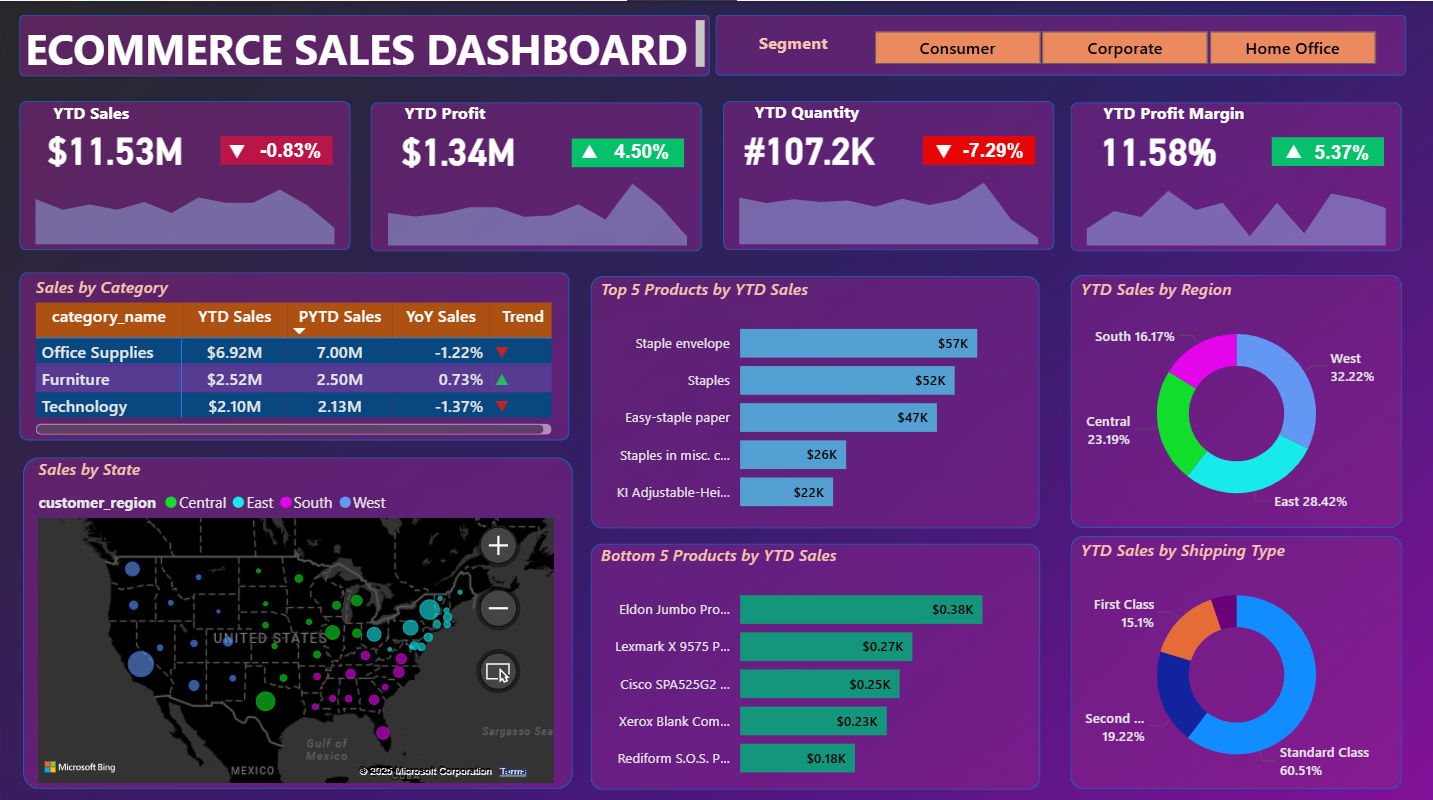

This screenshot's page, from the dashboard's own definition file:
{"tool":"powerbi","page":{"name":"Page 1","canvas":[1280,720],"ordinal":0},"visuals":[{"type":"shape","box":[19.2,12.3,615,55],"z":0},{"type":"shape","box":[197.9,120.6,100.1,25.3],"z":1000},{"type":"textbox","box":[19.3,12.1,615.3,55.5],"z":2000},{"type":"shape","box":[19.2,89.2,295,133.1],"z":3000},{"type":"card","fields":{"Values":["ecommerce_data.YTD Sales"]},"box":[10.9,102.5,187,57.9],"z":4000},{"type":"areaChart","fields":{"Category":["Calendar.Month"],"Y":["Sum(ecommerce_data.sales_per_order)"]},"box":[19.3,146,295.6,76],"z":5000},{"type":"shape","box":[332.3,90.5,295,133.1],"z":6000},{"type":"card","fields":{"Values":["ecommerce_data.YoY Sales"]},"box":[225.6,120.6,70,27.7],"z":7000},{"type":"card","fields":{"Values":["ecommerce_data.Sales Icon"]},"box":[197.9,121.9,30.2,27.7],"z":8000},{"type":"textbox","box":[44.6,84.5,90.5,35],"z":9000},{"type":"shape","box":[510.9,122,100.1,25.3],"z":10000},{"type":"card","fields":{"Values":["ecommerce_data.YTD Profit"]},"box":[331.8,103.8,156.8,57.9],"z":11000},{"type":"areaChart","fields":{"Category":["Calendar.Month"],"Y":["Sum(ecommerce_data.profit_per_order)"]},"box":[332.4,147.3,295.6,76],"z":12000},{"type":"card","fields":{"Values":["ecommerce_data.YoY Profit"]},"box":[539.3,121.9,70,27.7],"z":13000},{"type":"card","fields":{"Values":["ecommerce_data.Profit Icon"]},"box":[511.5,121.9,30.2,27.7],"z":14000},{"type":"textbox","box":[357.1,84.5,90.5,36.2],"z":15000},{"type":"shape","box":[645.3,88.9,295,133.1],"z":16000},{"type":"shape","box":[824,120.4,100.1,25.3],"z":17000},{"type":"card","fields":{"Values":["ecommerce_data.YTD Concatenated Qty"]},"box":[644.8,102.2,156.8,57.9],"z":18000},{"type":"areaChart","fields":{"Category":["Calendar.Month"],"Y":["Sum(ecommerce_data.order_quantity)"]},"box":[645.4,145.7,295.6,76],"z":19000},{"type":"card","fields":{"Values":["ecommerce_data.YoY Quantity"]},"box":[851.7,120.6,70,27.7],"z":20000},{"type":"card","fields":{"Values":["ecommerce_data.Quantity Icon"]},"box":[822.8,120.6,39.8,25.3],"z":21000},{"type":"textbox","box":[669.6,83.2,123.1,36.2],"z":22000},{"type":"shape","box":[955.5,90.2,295,133.1],"z":23000},{"type":"shape","box":[1134.1,121.7,100.1,25.3],"z":24000},{"type":"card","fields":{"Values":["ecommerce_data.YTD Profit Margin"]},"box":[955,103.5,156.8,57.9],"z":25000},{"type":"areaChart","fields":{"Category":["Calendar.Month"],"Y":["ecommerce_data.Profit Margin"]},"box":[955.6,147,295.6,76],"z":26000},{"type":"card","fields":{"Values":["ecommerce_data.YoY Profit Margin"]},"box":[1161.9,122,70,27.7],"z":27000},{"type":"card","fields":{"Values":["ecommerce_data.Profit Margin Icon"]},"box":[1134.1,120.6,39.8,25.3],"z":28000},{"type":"textbox","box":[979.6,84.5,154.4,36.2],"z":29000},{"type":"shape","box":[19.3,241.3,490,150],"z":30000},{"type":"pivotTable","title":"Sales by Category","fields":{"Rows":["ecommerce_data.category_name"],"Values":["ecommerce_data.YTD Sales","ecommerce_data.PYTD Sales","ecommerce_data.YoY Sales","ecommerce_data.Sales Icon"]},"box":[29,243.7,469.3,147.2],"z":31000},{"type":"shape","box":[21.7,406.6,489.8,295.6],"z":32000},{"type":"map","title":"Sales by State","fields":{"Y":["us_state_long_lat_codes.latitude"],"X":["us_state_long_lat_codes.longitude"],"Size":["ecommerce_data.YTD Sales"],"Series":["ecommerce_data.customer_region"]},"box":[31.4,406.6,469.3,295.6],"z":33000},{"type":"shape","box":[527.2,244.9,400,225],"z":34000},{"type":"shape","box":[527.2,482.6,400.5,219.6],"z":35000},{"type":"barChart","title":"Top 5 Products by YTD Sales","fields":{"Category":["ecommerce_data.product_name"],"Y":["ecommerce_data.YTD Sales"]},"box":[532,246.1,389.7,223.2],"z":36000},{"type":"barChart","title":"Bottom 5 Products by YTD Sales","fields":{"Category":["ecommerce_data.product_name"],"Y":["ecommerce_data.YTD Sales"]},"box":[532,482.6,389.7,223.2],"z":37000},{"type":"shape","box":[955.5,243.7,295.6,225.6],"z":38000},{"type":"shape","box":[955.5,476.5,295.6,225.6],"z":39000},{"type":"donutChart","title":"YTD Sales by Region","fields":{"Category":["ecommerce_data.customer_region"],"Y":["ecommerce_data.YTD Sales"]},"box":[959.1,246.1,287.1,223.2],"z":40000},{"type":"donutChart","title":"YTD Sales by Shipping Type","fields":{"Y":["ecommerce_data.YTD Sales"],"Category":["ecommerce_data.shipping_type"]},"box":[959.1,479,287.1,223.2],"z":41000},{"type":"shape","box":[639.4,12.1,615.3,54.3],"z":42000},{"type":"slicer","fields":{"Values":["ecommerce_data.customer_segment"]},"box":[755.2,20.5,495.8,37.4],"z":43000},{"type":"textbox","box":[656.3,21.7,98.9,45.8],"z":44000}]}

Visuals, with their boxes in screenshot pixels (x1, y1, x2, y2), scaled from the page's 1280x720 canvas onto the 1433x800 screenshot:
shape: [left=21, top=14, right=710, bottom=75]
shape: [left=222, top=134, right=334, bottom=162]
textbox: [left=22, top=13, right=710, bottom=75]
shape: [left=21, top=99, right=352, bottom=247]
card - ecommerce_data.YTD Sales: [left=12, top=114, right=222, bottom=178]
areaChart - Calendar.Month x Sum(ecommerce_data.sales_per_order): [left=22, top=162, right=353, bottom=247]
shape: [left=372, top=101, right=702, bottom=248]
card - ecommerce_data.YoY Sales: [left=253, top=134, right=331, bottom=165]
card - ecommerce_data.Sales Icon: [left=222, top=135, right=255, bottom=166]
textbox: [left=50, top=94, right=151, bottom=133]
shape: [left=572, top=136, right=684, bottom=164]
card - ecommerce_data.YTD Profit: [left=371, top=115, right=547, bottom=180]
areaChart - Calendar.Month x Sum(ecommerce_data.profit_per_order): [left=372, top=164, right=703, bottom=248]
card - ecommerce_data.YoY Profit: [left=604, top=135, right=682, bottom=166]
card - ecommerce_data.Profit Icon: [left=573, top=135, right=606, bottom=166]
textbox: [left=400, top=94, right=501, bottom=134]
shape: [left=722, top=99, right=1053, bottom=247]
shape: [left=922, top=134, right=1035, bottom=162]
card - ecommerce_data.YTD Concatenated Qty: [left=722, top=114, right=897, bottom=178]
areaChart - Calendar.Month x Sum(ecommerce_data.order_quantity): [left=723, top=162, right=1053, bottom=246]
card - ecommerce_data.YoY Quantity: [left=954, top=134, right=1032, bottom=165]
card - ecommerce_data.Quantity Icon: [left=921, top=134, right=966, bottom=162]
textbox: [left=750, top=92, right=887, bottom=133]
shape: [left=1070, top=100, right=1400, bottom=248]
shape: [left=1270, top=135, right=1382, bottom=163]
card - ecommerce_data.YTD Profit Margin: [left=1069, top=115, right=1245, bottom=179]
areaChart - Calendar.Month x ecommerce_data.Profit Margin: [left=1070, top=163, right=1401, bottom=248]
card - ecommerce_data.YoY Profit Margin: [left=1301, top=136, right=1379, bottom=166]
card - ecommerce_data.Profit Margin Icon: [left=1270, top=134, right=1314, bottom=162]
textbox: [left=1097, top=94, right=1270, bottom=134]
shape: [left=22, top=268, right=570, bottom=435]
"Sales by Category" pivotTable: [left=32, top=271, right=558, bottom=434]
shape: [left=24, top=452, right=573, bottom=780]
"Sales by State" map: [left=35, top=452, right=561, bottom=780]
shape: [left=590, top=272, right=1038, bottom=522]
shape: [left=590, top=536, right=1039, bottom=780]
"Top 5 Products by YTD Sales" barChart: [left=596, top=273, right=1032, bottom=521]
"Bottom 5 Products by YTD Sales" barChart: [left=596, top=536, right=1032, bottom=784]
shape: [left=1070, top=271, right=1401, bottom=521]
shape: [left=1070, top=529, right=1401, bottom=780]
"YTD Sales by Region" donutChart: [left=1074, top=273, right=1395, bottom=521]
"YTD Sales by Shipping Type" donutChart: [left=1074, top=532, right=1395, bottom=780]
shape: [left=716, top=13, right=1405, bottom=74]
slicer - ecommerce_data.customer_segment: [left=845, top=23, right=1401, bottom=64]
textbox: [left=735, top=24, right=845, bottom=75]
